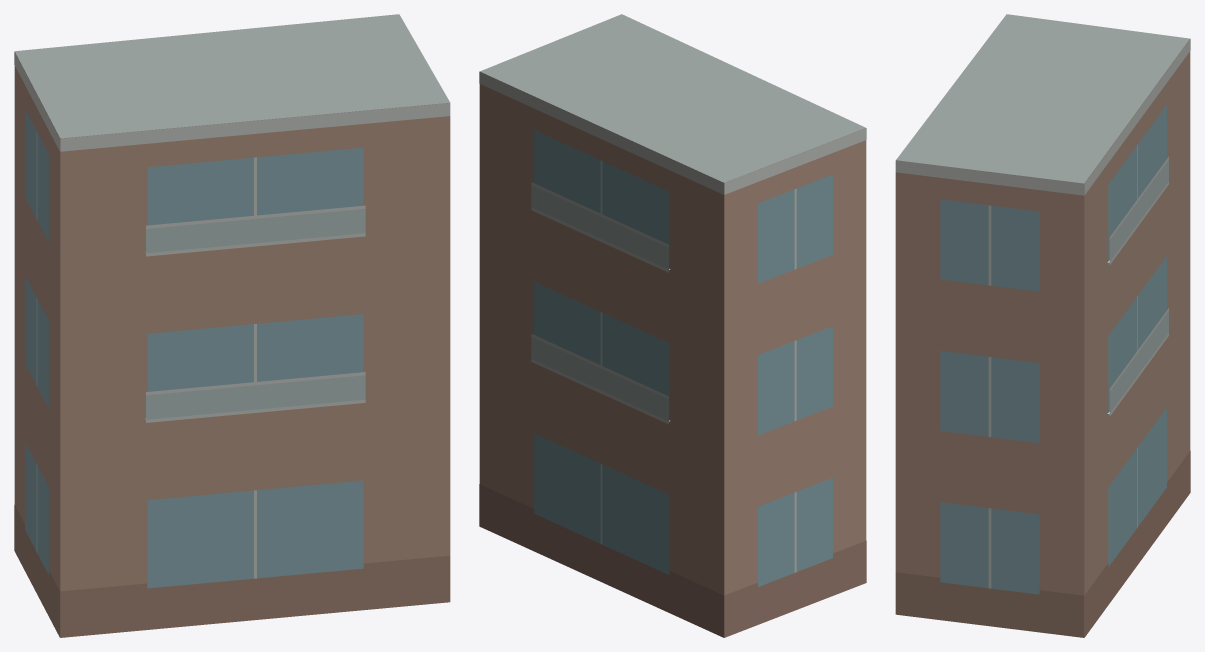
Rendered from survey-upis-32466255.glb.
3 views of the same model, side by side, from view 1: azimuth 30°, elevation 25°; view 2: azimuth 150°, elevation 25°; view 3: azimuth 270°, elevation 25° (orthographic). The views are drawn at different scales.
Parts seen in each view (by area): view 1: survey-upis-32466255.tmp; view 2: survey-upis-32466255.tmp; view 3: survey-upis-32466255.tmp.
Boxes of the visible parts, <box> form: survey-upis-32466255.tmp: <box>14,14,450,637</box>; survey-upis-32466255.tmp: <box>479,14,866,637</box>; survey-upis-32466255.tmp: <box>895,14,1190,637</box>.
Bounding box in the file's own units: 7.33 × 9.15 × 5.39.
